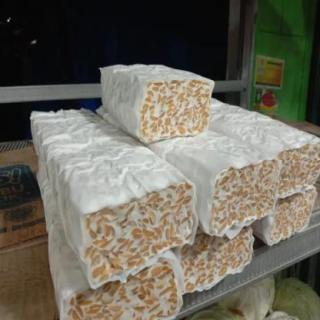Tempe: (28, 106, 199, 286), (98, 60, 215, 143)
